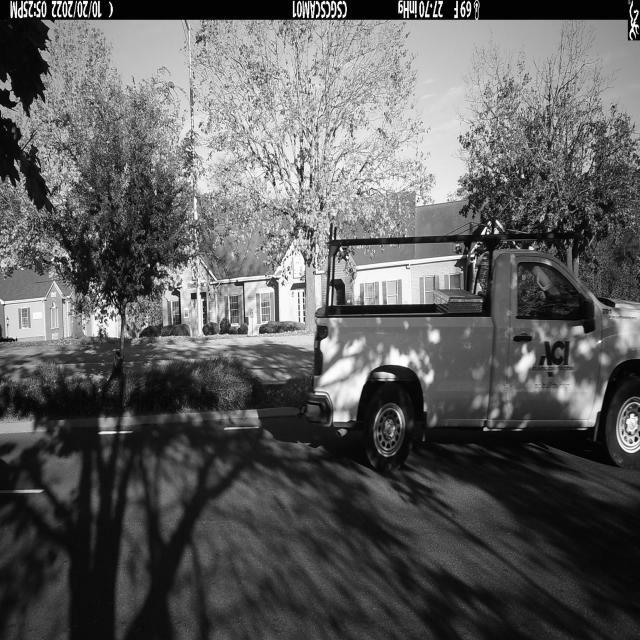Pickup: (304, 218, 640, 471)
